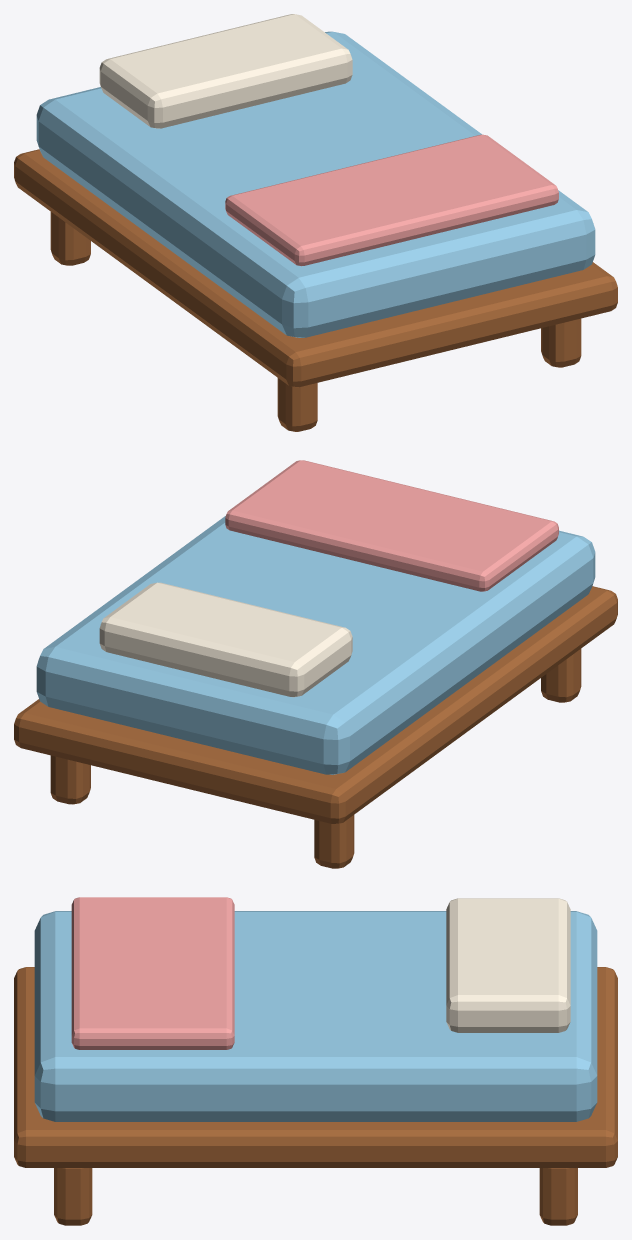
Rendered from prop_kasur.fbx.
3 views of the same model, one above another, from view 1: azimuth 30°, elevation 25°; view 2: azimuth 150°, elevation 25°; view 3: azimuth 270°, elevation 25° (orthographic). The views are drawn at different scales.
Parts seen in each view (by area): view 1: prop_kasur; view 2: prop_kasur; view 3: prop_kasur.
Part boxes in pixels (x1,y1,x2,y2): prop_kasur: [14, 14, 617, 431]; prop_kasur: [14, 460, 617, 868]; prop_kasur: [14, 897, 617, 1225].
Size of the model in its own units: 138 by 77 by 204.
Materials: 1 (1 with a texture image).
